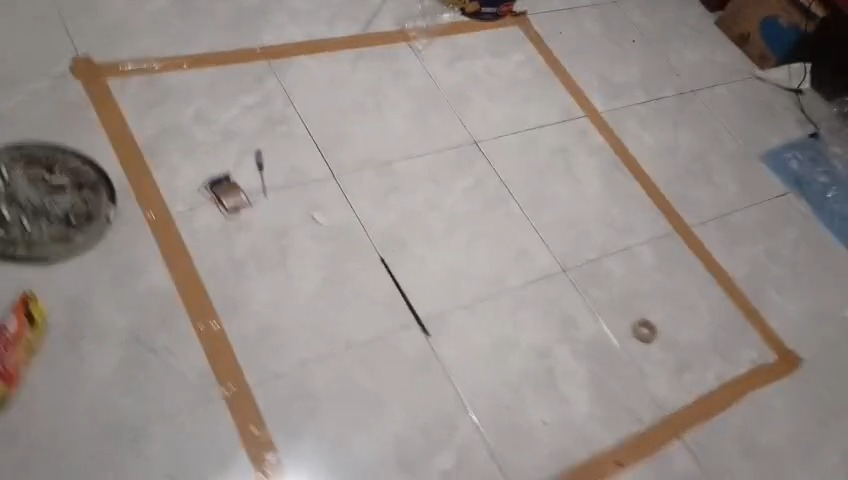floor marking: (420, 15, 800, 479), (70, 29, 420, 479)
